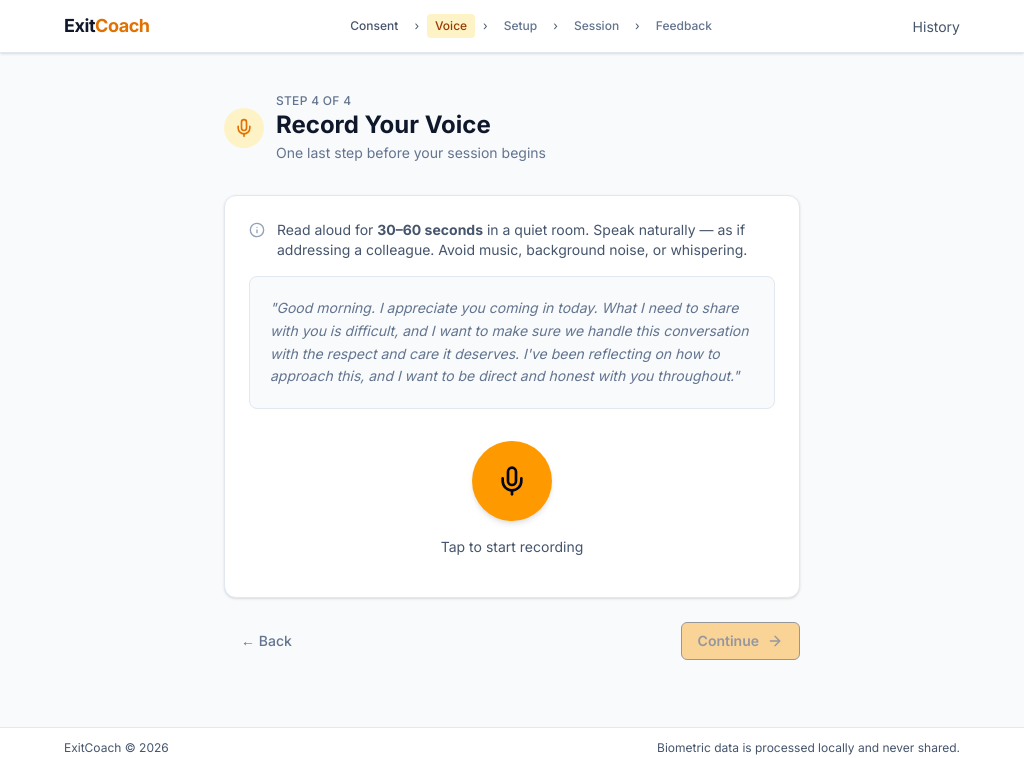
Test case: Onboarding — Y9 recording duration guidance › hovering the disabled Stop button reveals the early-stop hint
Step 1. Click the button named "start recording your voice sample" → (512,481), box [472, 441, 552, 521]
Wait 3000 ms
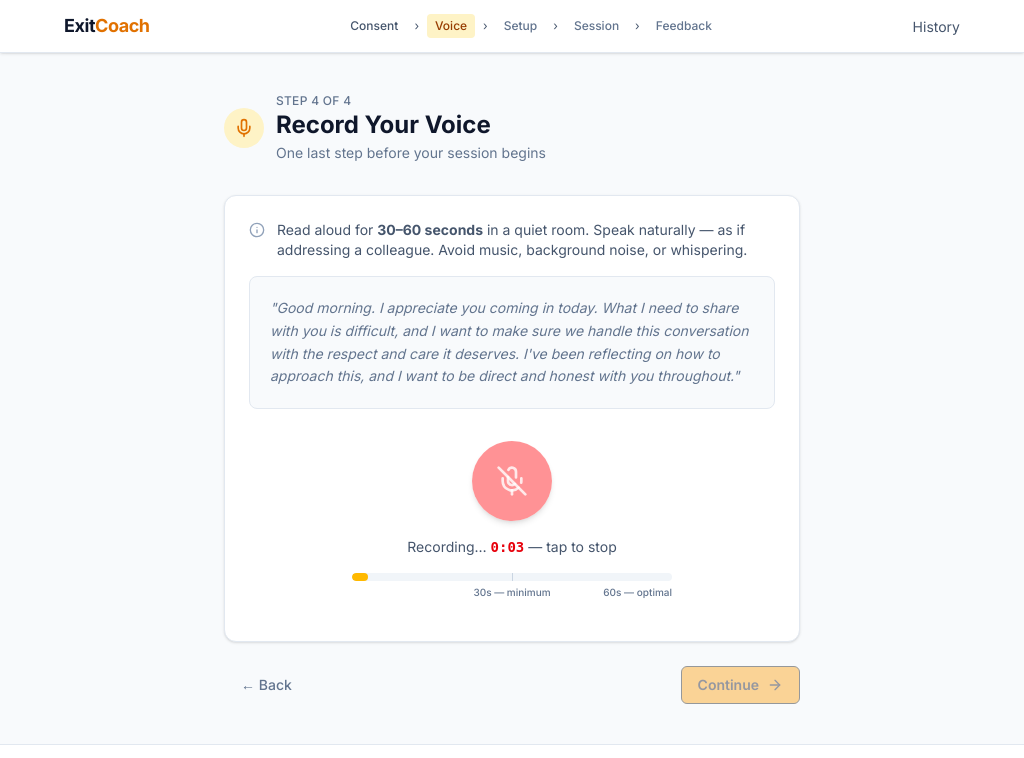
Step 2. Hover over the button named "stop recording" → (512,481), box [472, 441, 552, 521]
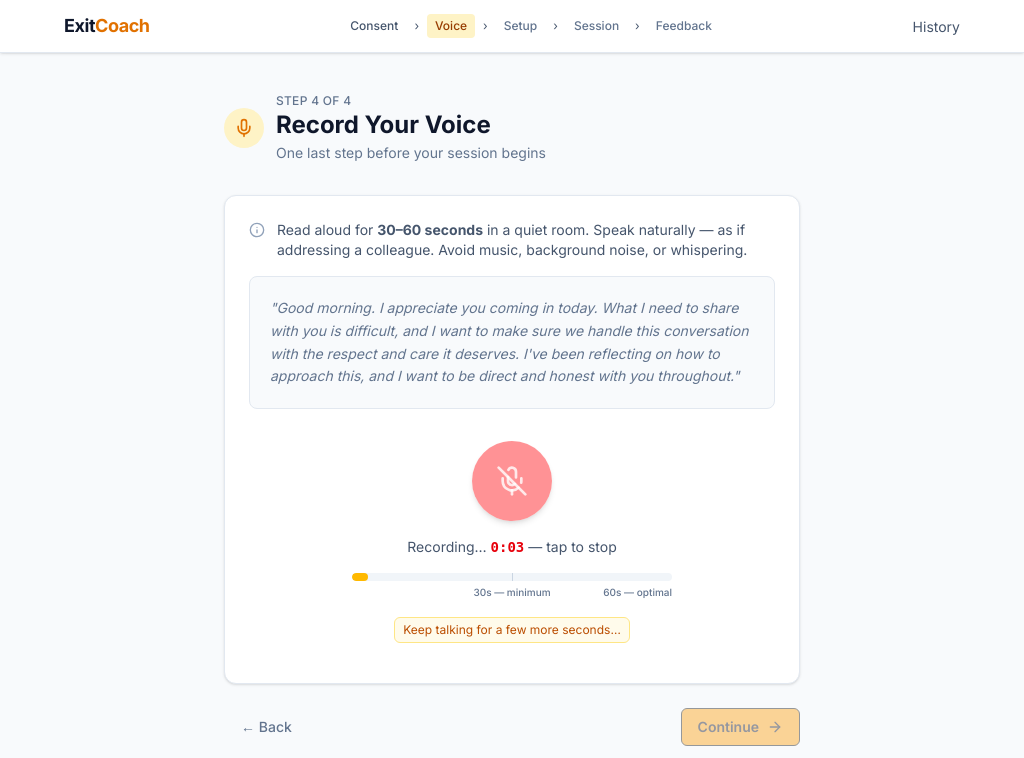
expect the message "Keep talking for a few more seconds…" is shown: met, box [394, 617, 630, 643]
